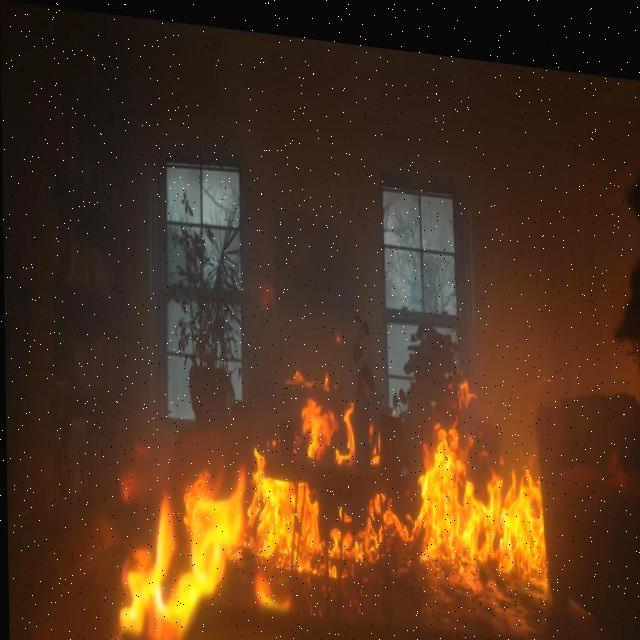Fire: (104, 337, 553, 639)
